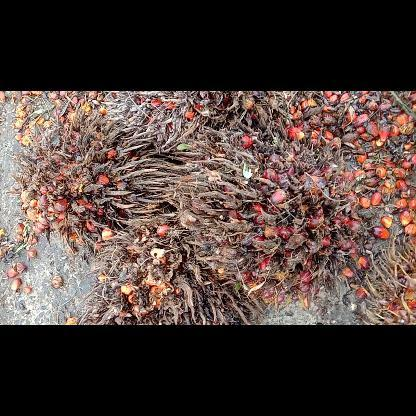Terlalu masak: (168, 107, 376, 311), (6, 102, 174, 258), (74, 212, 252, 324), (98, 91, 296, 153)
